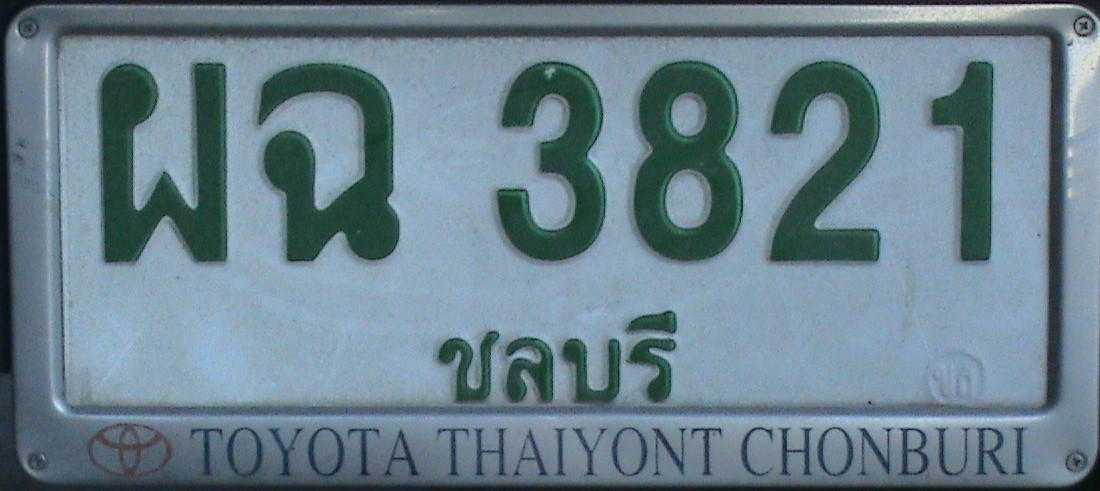txt07: (253, 57, 409, 268)
txt23: (90, 55, 236, 270)
